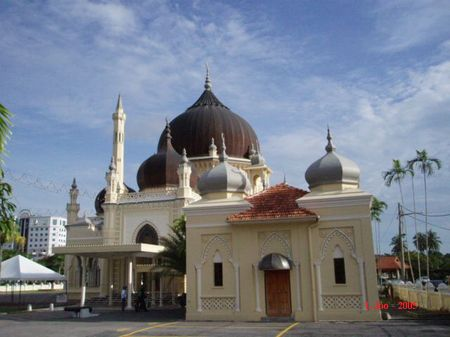Mosque: (58, 72, 378, 317)
